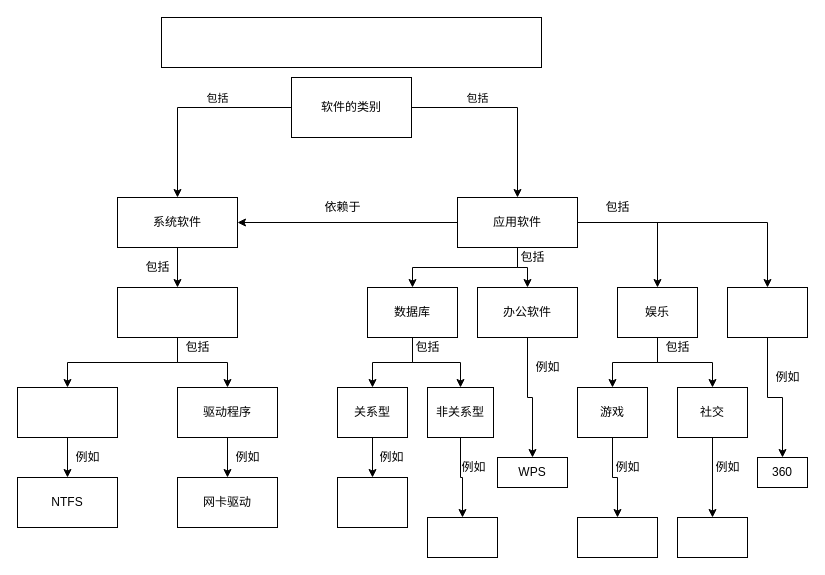
Image size: 825x575. Some labels were removed from this diagram. The shapes that lost their labels are listed below. From the top down, each one's centre as x and y in pixels, then its label:
(x=351, y=42): Focus Question: 计算机软件有哪些类别
(x=177, y=312): 操作系统
(x=767, y=312): 杀毒
(x=67, y=412): 文件系统
(x=372, y=502): MySQL
(x=462, y=537): Redis
(x=617, y=537): LOL
(x=712, y=537): 微信
